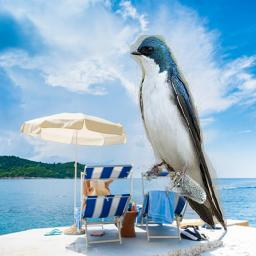Swallow: (131, 36, 228, 233)
